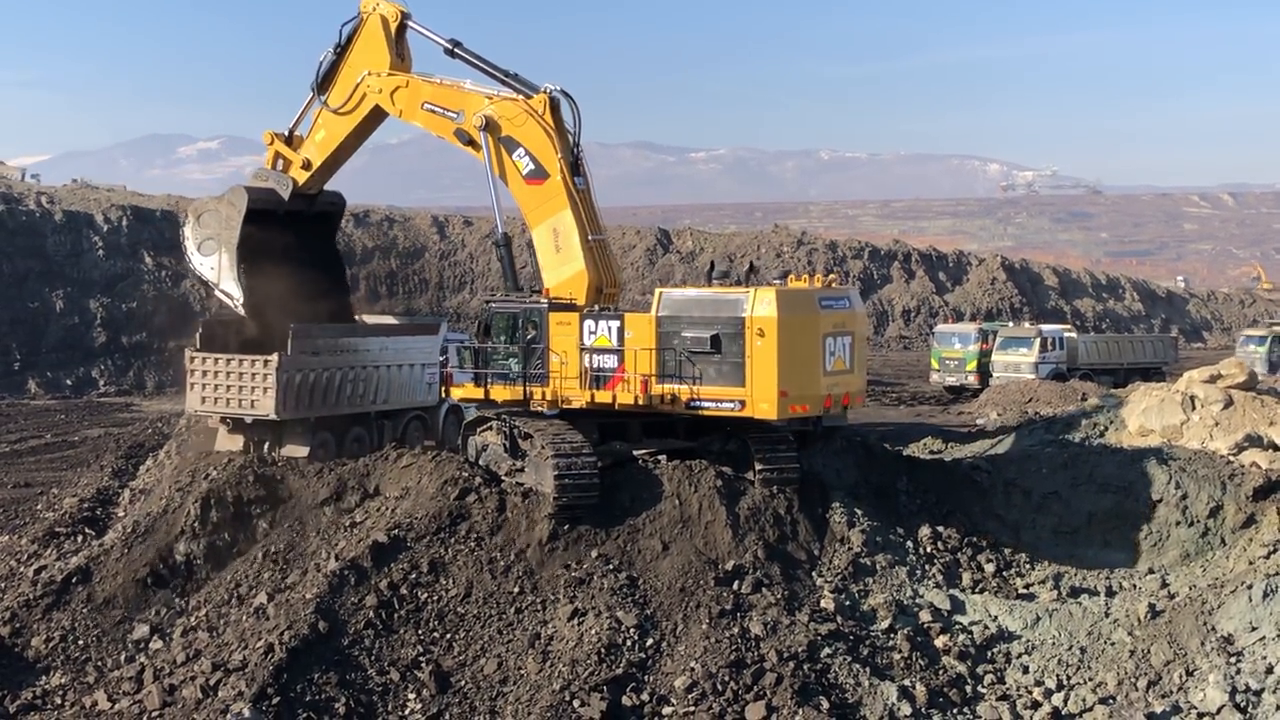full: (186, 165, 346, 324)
